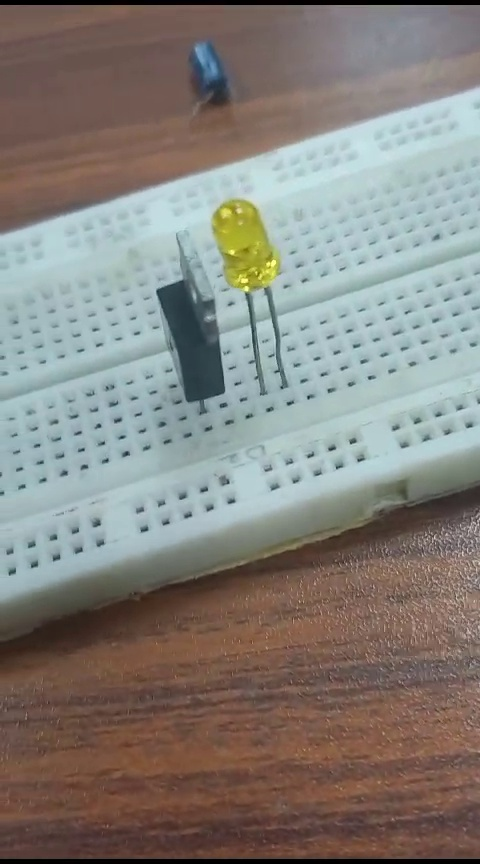LED: (206, 200, 287, 385)
voltage regulator: (144, 233, 218, 403)
